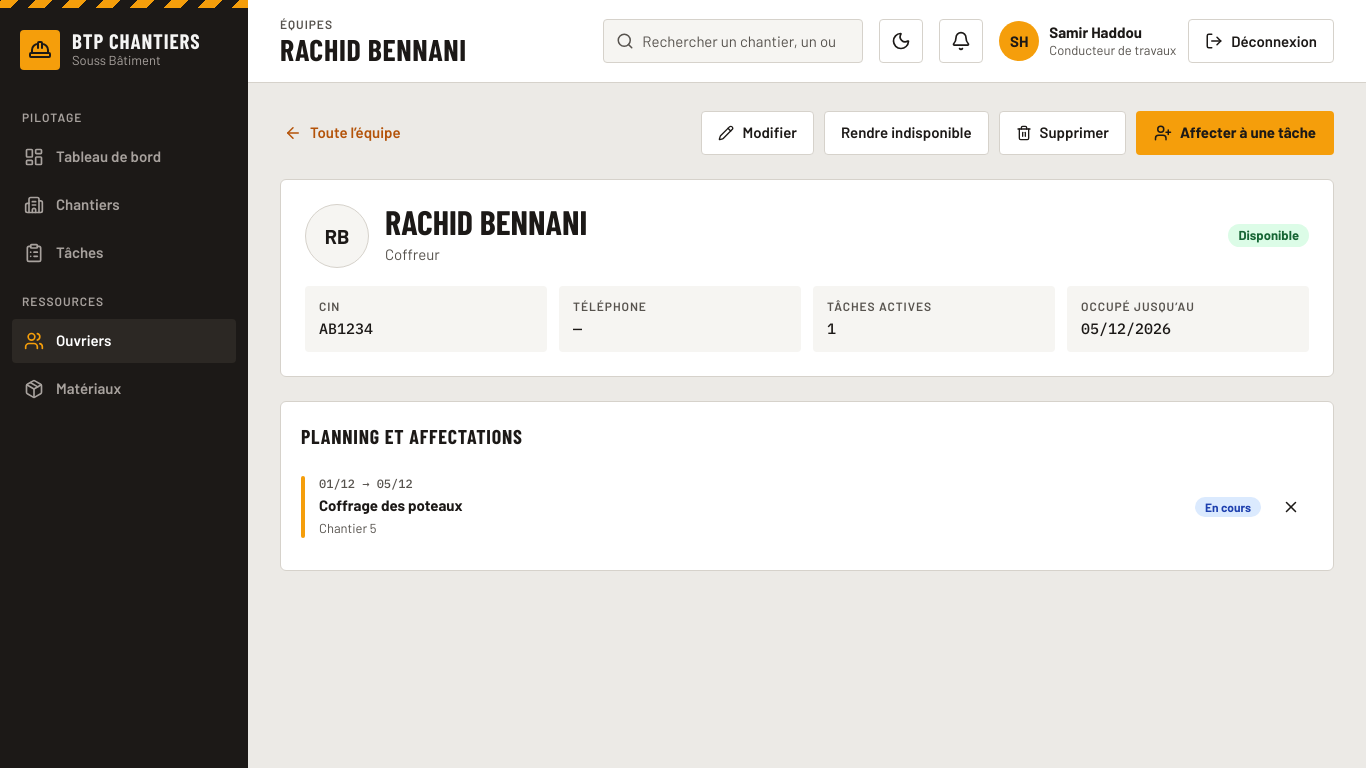
Suppression depuis la fiche (API réelle) › 503 : Tâches injoignable, l’alerte l’explique et l’ouvrier reste affiché
Click the button "Supprimer". click: {"x": 1062, "y": 132}
box: [998,110,1126,154]
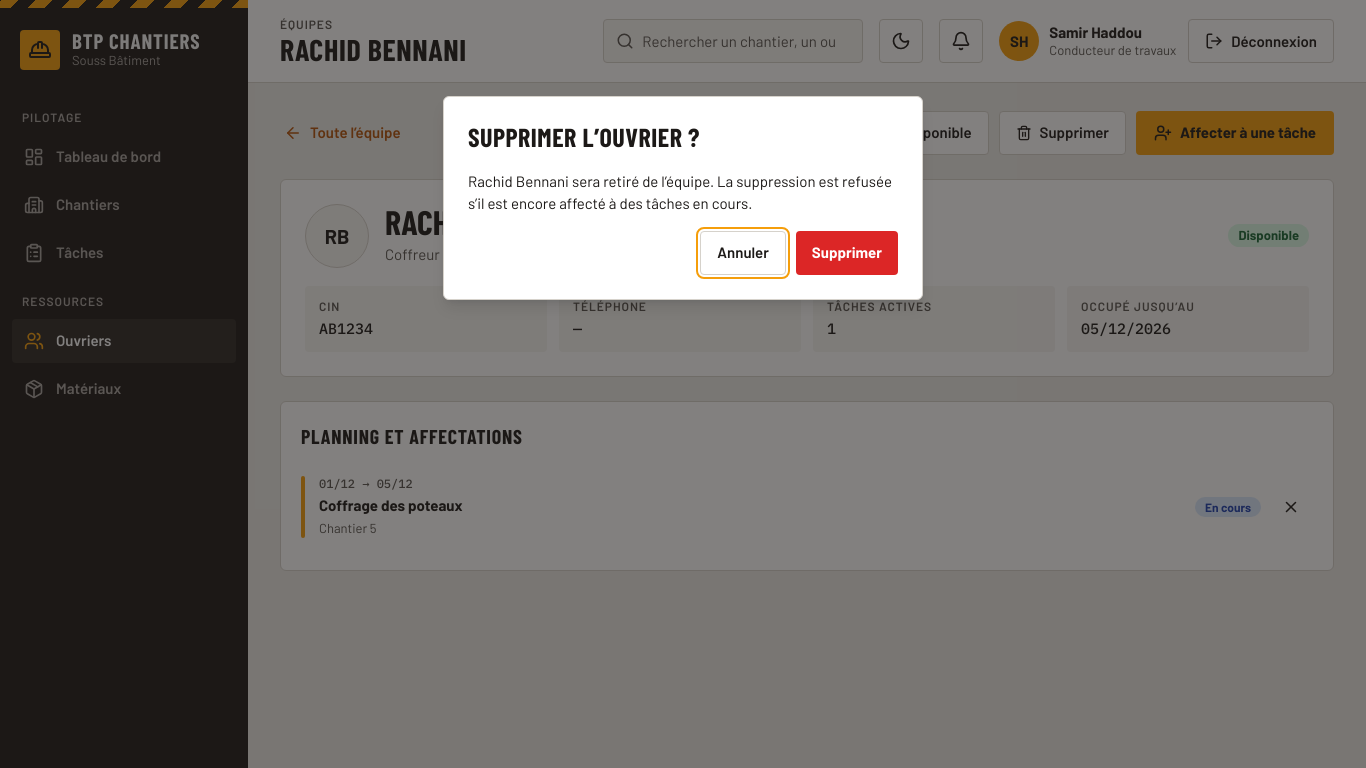
Click the button "Supprimer". click: {"x": 847, "y": 252}
box: [796,230,898,274]
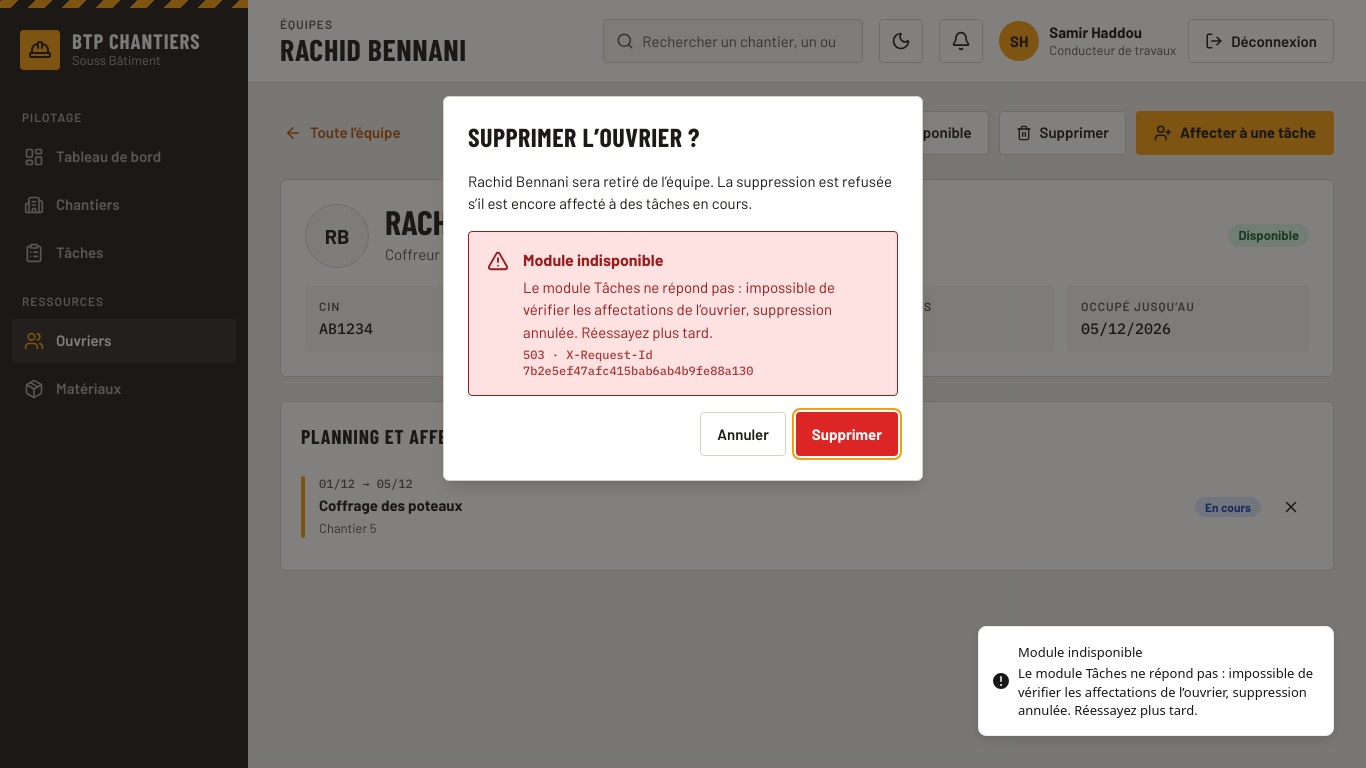
Expected: the dialog "Supprimer l’ouvrier ?" is shown, [443,96,923,481]
Expected: the message shows "Le module Tâches ne répond pas", [523,278,835,340]
Expected: the message shows "503", [523,347,545,362]
